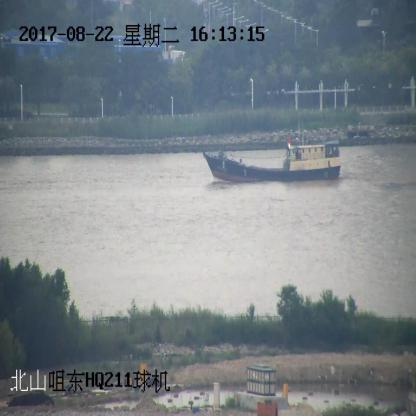Fishing Boat: (204, 128, 340, 182)
